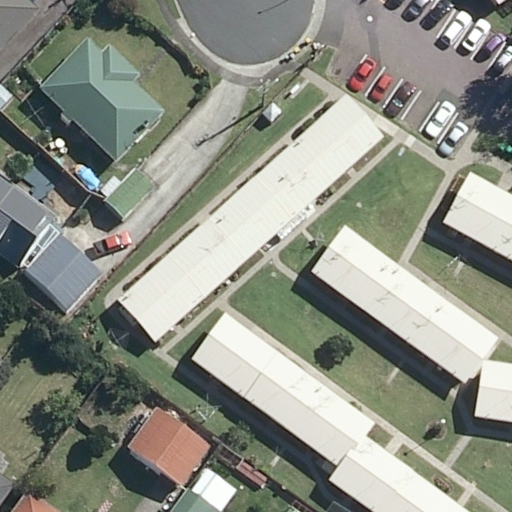DT: (256, 78, 273, 109)
